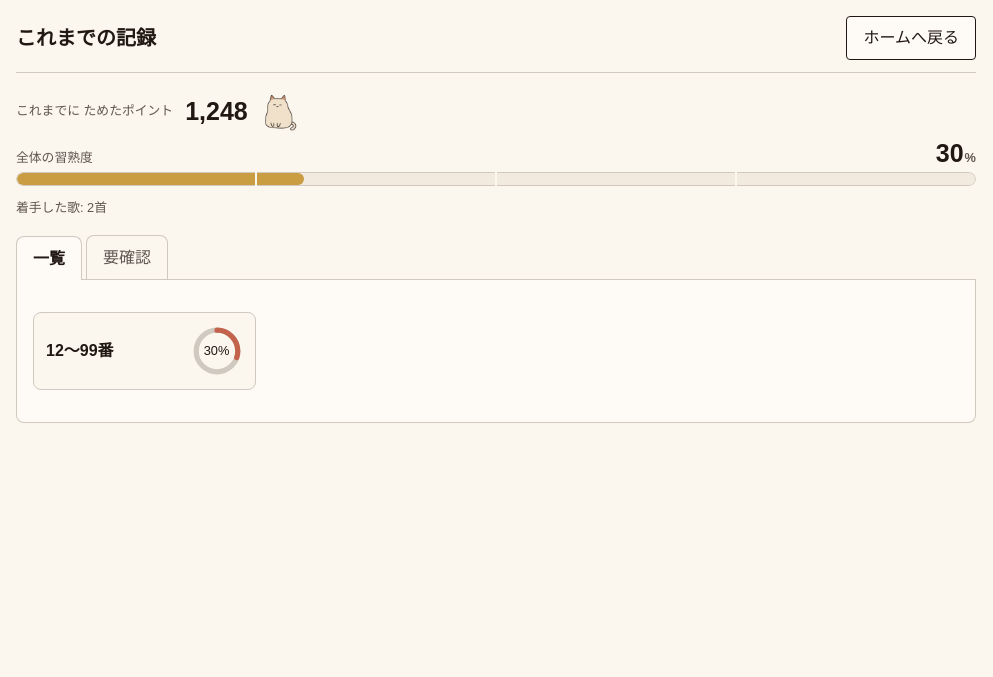
Test: history: 作者未確認を作者イベントがない首にだけ併記する
Click the button with class "history-group": x=144, y=351 left=33, top=312, right=256, bottom=390
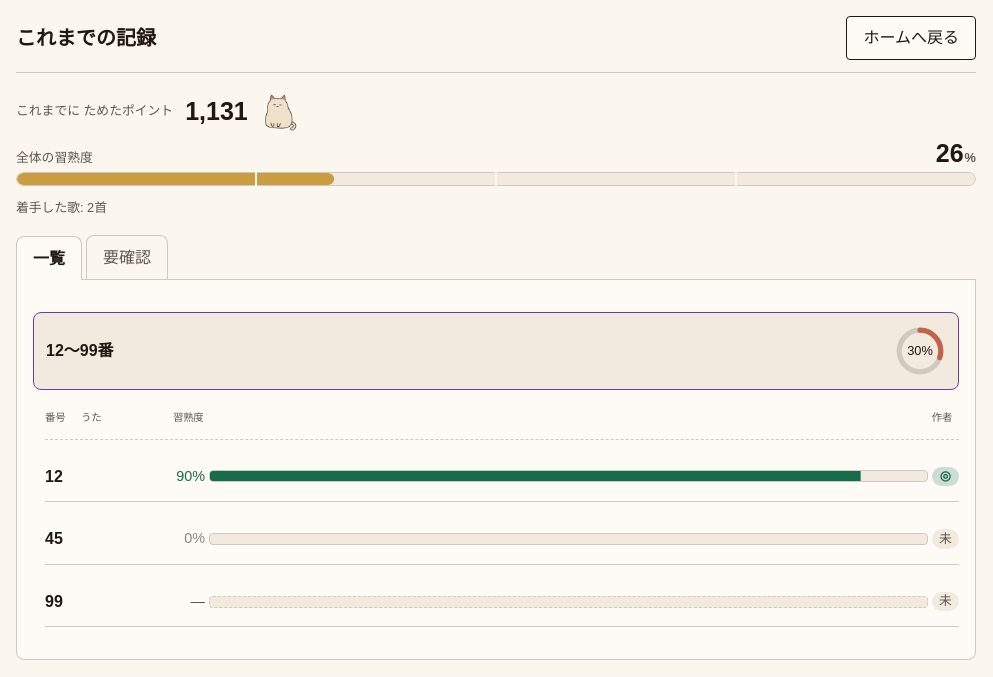
Now the picture with class "author-stage" in the row of "45" reads "未", box left=939, top=531, right=952, bottom=546
Now the picture with class "author-stage" reads "◎", box left=940, top=468, right=951, bottom=483
